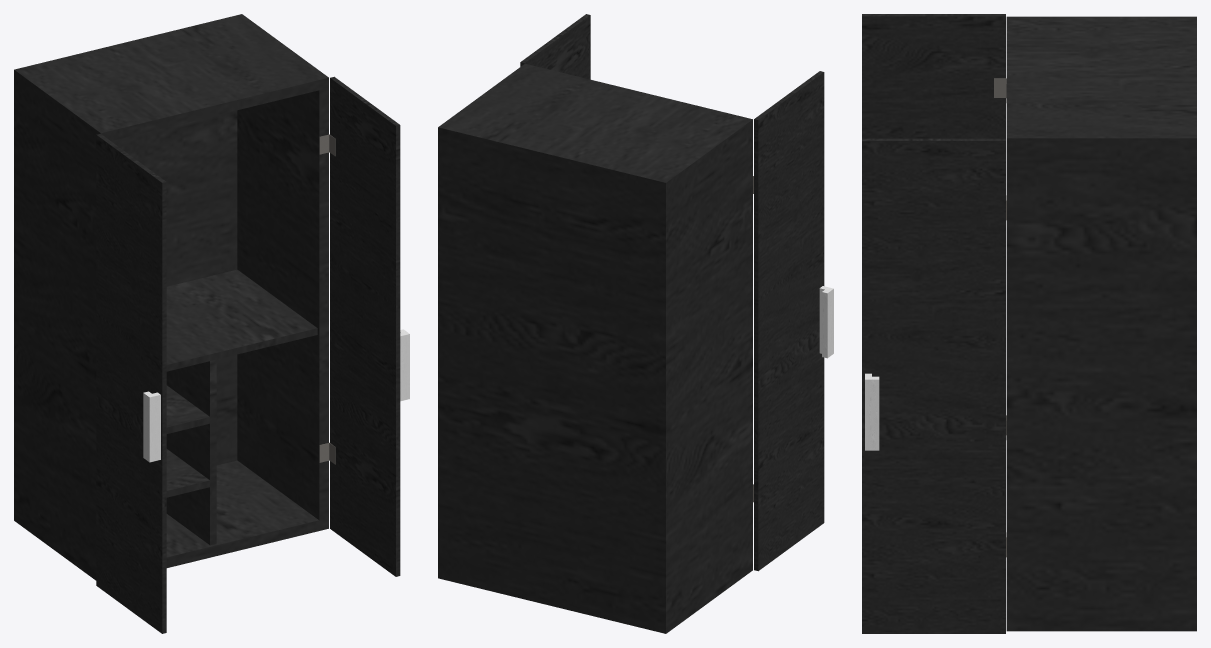
Rendered from Closet25.fbx.
3 views of the same model, side by side, from view 1: azimuth 30°, elevation 25°; view 2: azimuth 150°, elevation 25°; view 3: azimuth 270°, elevation 25° (orthographic). The views are drawn at different scales.
Visible parts, largest first — view 1: Closet25, Closet25DoorR, Closet25DoorL; view 2: Closet25, Closet25DoorL, Closet25DoorR; view 3: Closet25, Closet25DoorR, Closet25DoorL.
Part boxes in pixels (bbox=[...]): Closet25: bbox=[14, 14, 329, 580]; Closet25DoorR: bbox=[329, 76, 409, 576]; Closet25DoorL: bbox=[96, 133, 166, 633]; Closet25: bbox=[438, 63, 753, 633]; Closet25DoorL: bbox=[753, 71, 833, 571]; Closet25DoorR: bbox=[520, 14, 590, 79]; Closet25: bbox=[1006, 16, 1196, 631]; Closet25DoorR: bbox=[862, 138, 1006, 633]; Closet25DoorL: bbox=[862, 14, 1006, 434].
Size of the model in its own units: 154 by 254 by 157.
